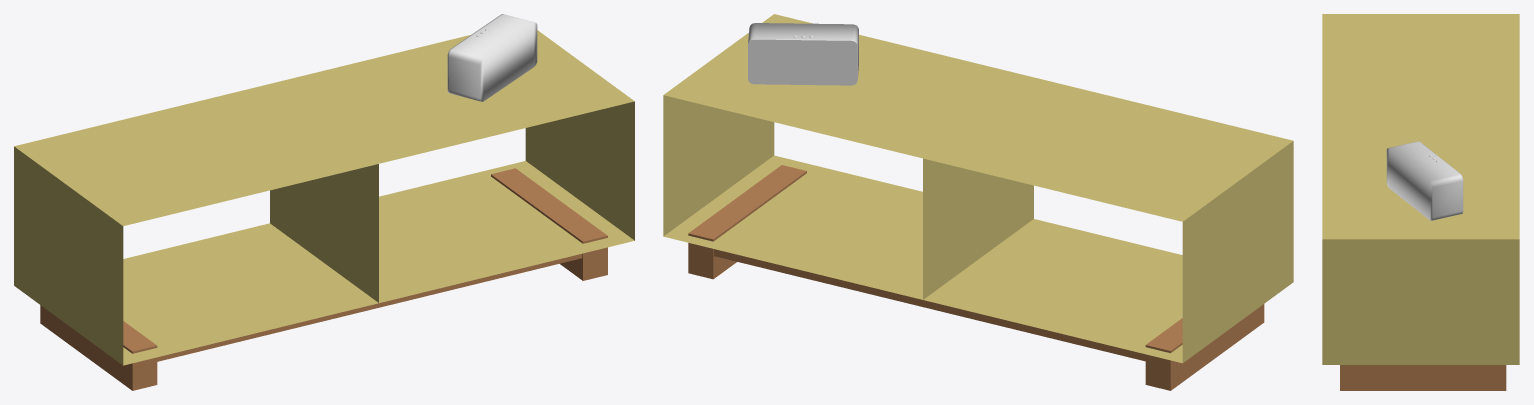
Rendered from teapoy.dae.
3 views of the same model, side by side, from view 1: azimuth 30°, elevation 25°; view 2: azimuth 150°, elevation 25°; view 3: azimuth 270°, elevation 25° (orthographic). The views are drawn at different scales.
Parts seen in each view (by area): view 1: Cube, Clock_Body_Cube, Cube.002, Cube.001, Cube.003; view 2: Cube, Clock_Panel_Glass_Cube.002, Cube.002, Cube.001, Cube.003, Clock_Body_Cube; view 3: Cube, Clock_Body_Cube, Cube.002.
Boxes of the visible parts, box(x1,y1,x2,y2) form: Cube: box(14, 30, 634, 365); Clock_Body_Cube: box(447, 14, 537, 101); Cube.002: box(491, 168, 607, 280); Cube.001: box(40, 305, 157, 390); Cube.003: box(157, 254, 582, 361); Cube: box(663, 14, 1293, 363); Clock_Panel_Glass_Cube.002: box(748, 39, 857, 85); Cube.002: box(688, 165, 806, 279); Cube.001: box(1145, 304, 1264, 390); Cube.003: box(714, 249, 1145, 361); Clock_Body_Cube: box(748, 23, 858, 79); Cube: box(1322, 14, 1519, 364); Clock_Body_Cube: box(1386, 141, 1463, 220); Cube.002: box(1340, 365, 1506, 390).
Size of the model in its own units: 9.86 by 3.64 by 4.09.
